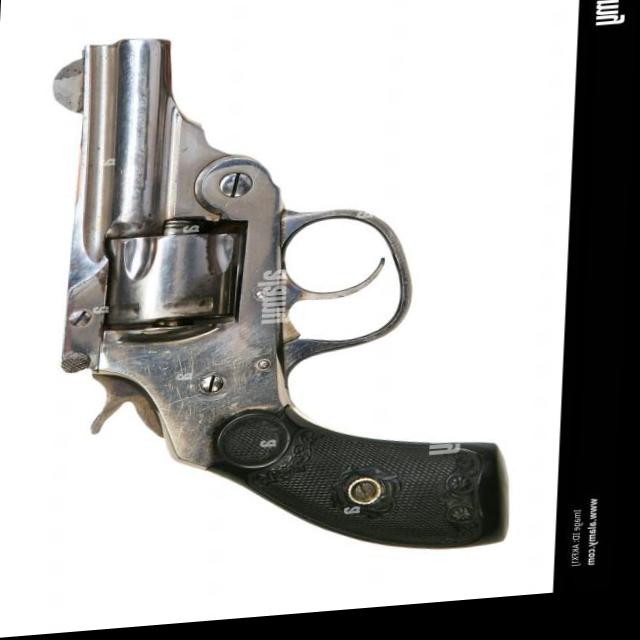handgun: (36, 13, 530, 579)
